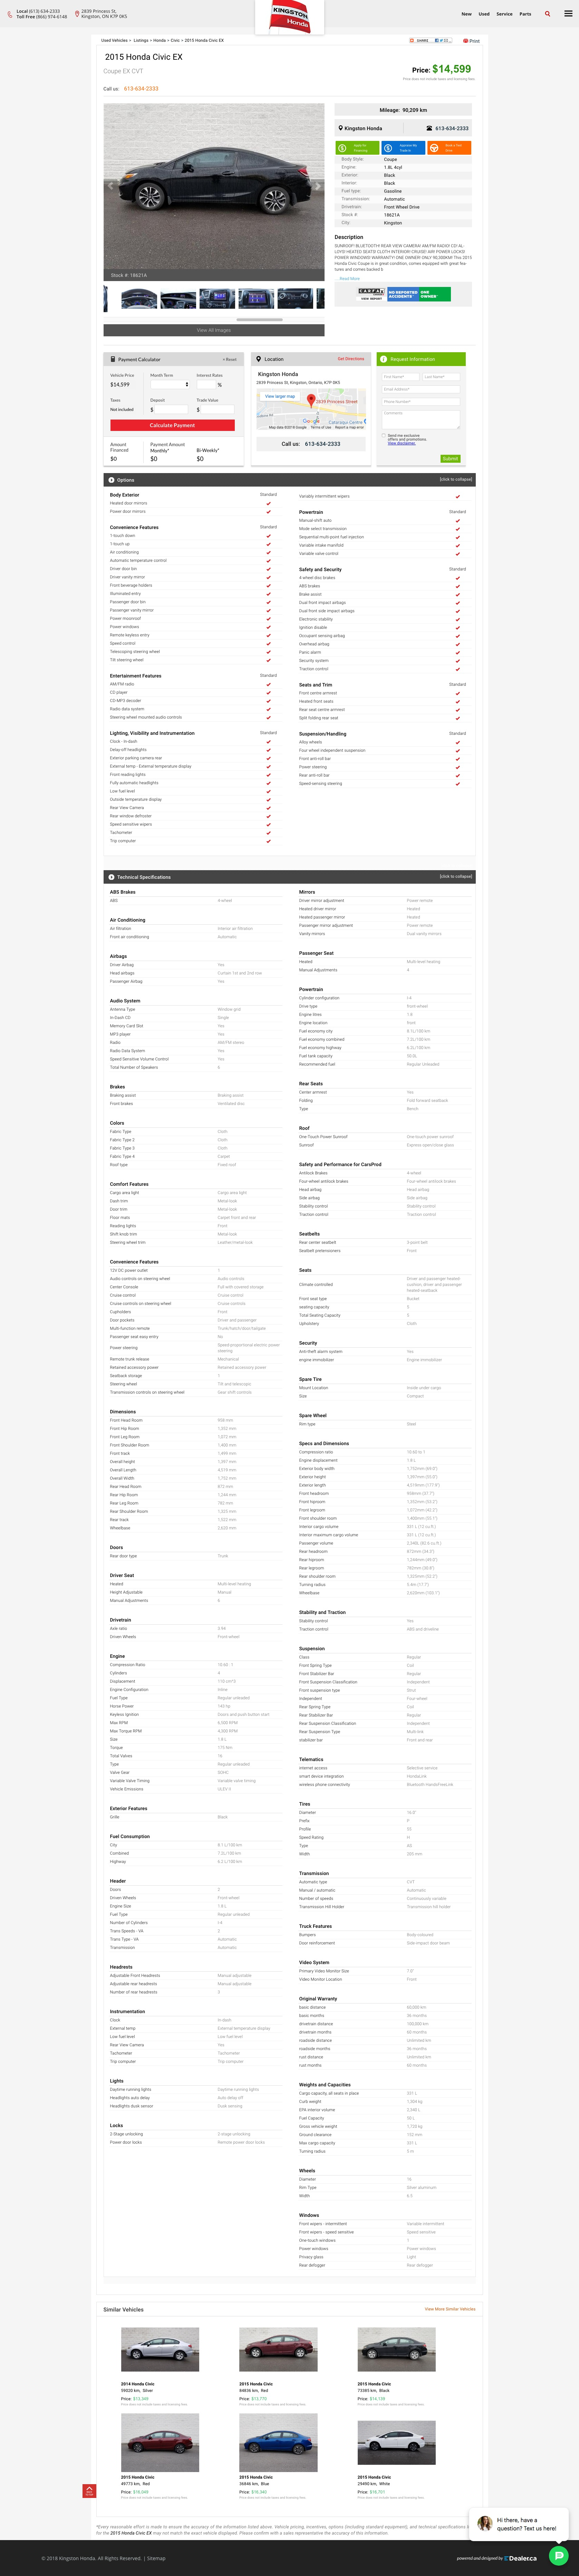car: (316, 182, 321, 191)
